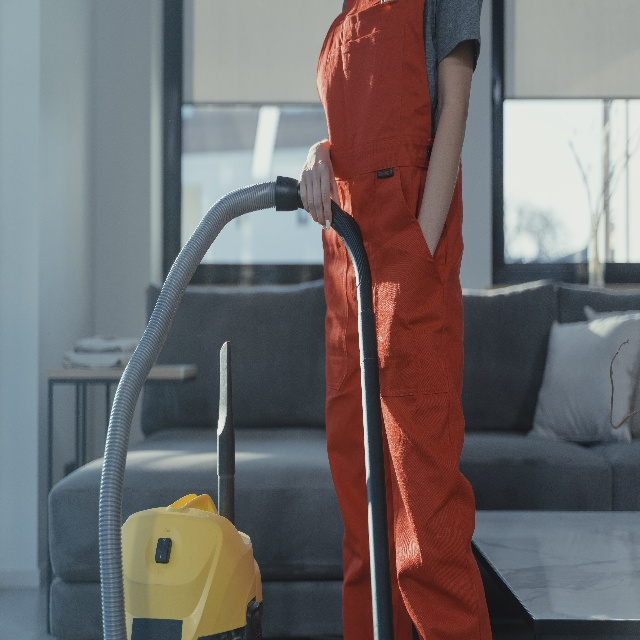Sin_guantes: (300, 143, 340, 233)
